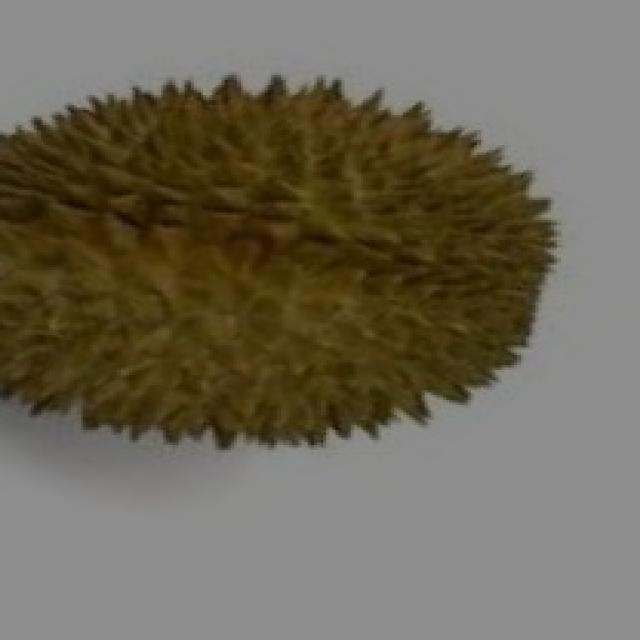fruit: (215, 65, 600, 493), (0, 58, 357, 500)
